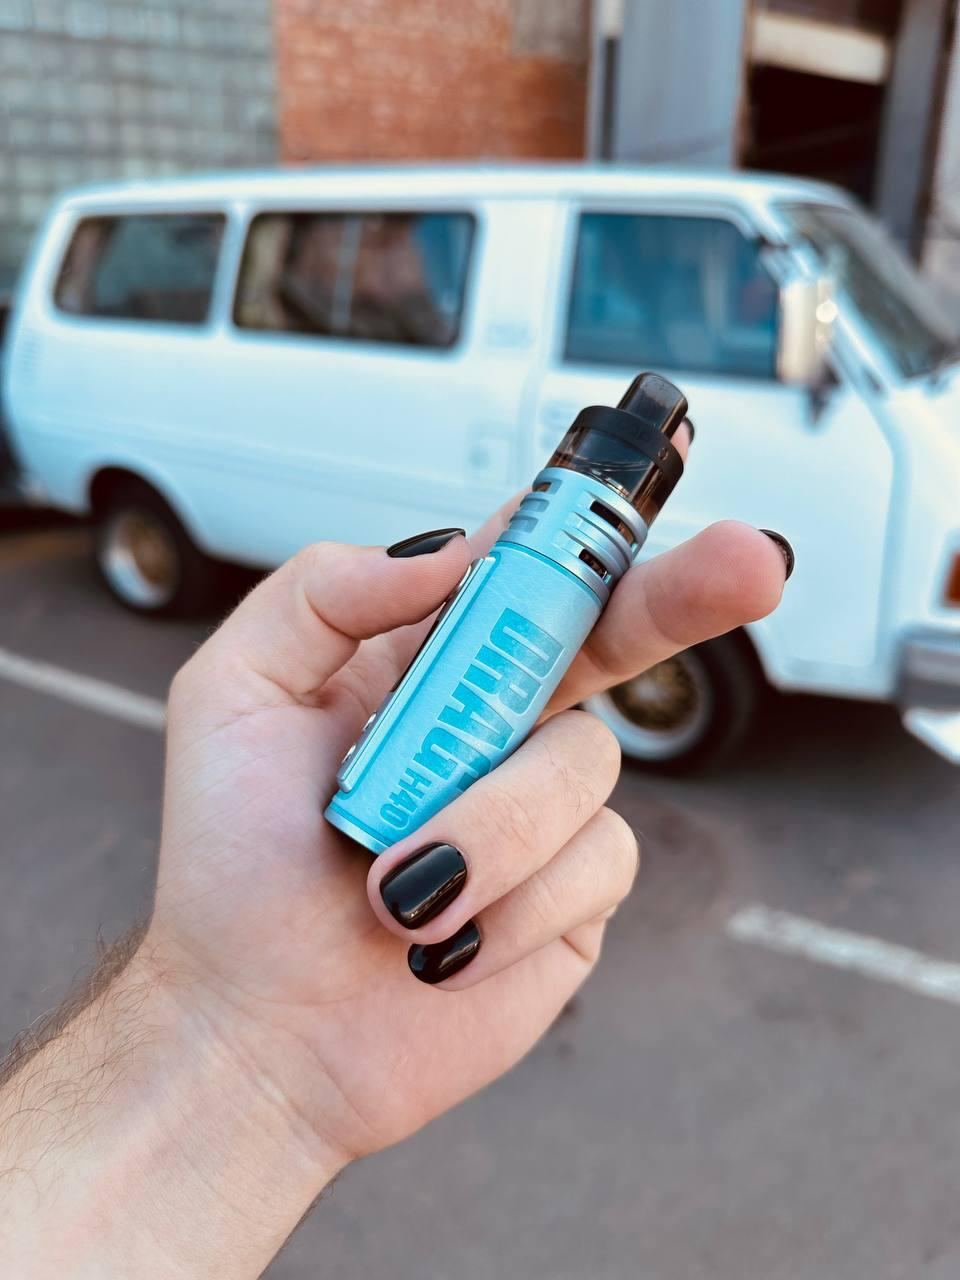Vape: (329, 377, 686, 853)
